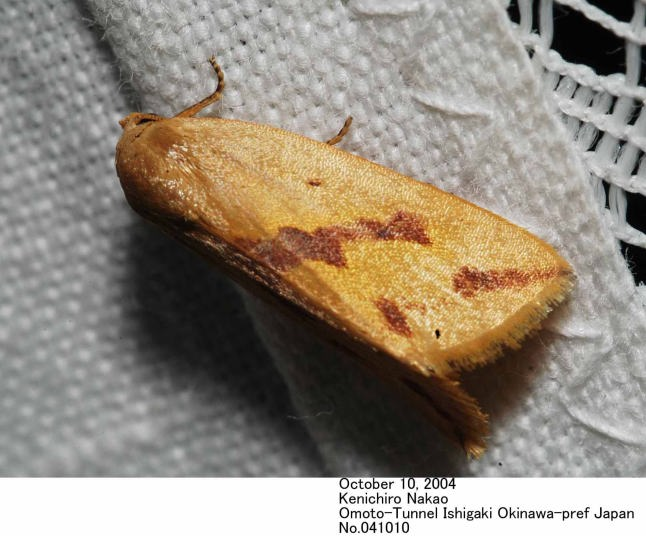Noctuidae: (112, 57, 580, 461)
